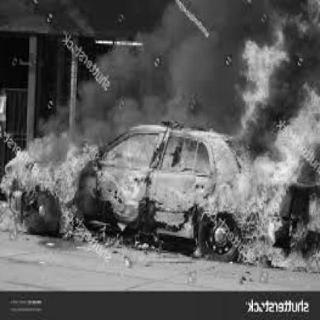Fire: (2, 132, 100, 242), (101, 132, 159, 168)
Smoke: (6, 0, 234, 130)
